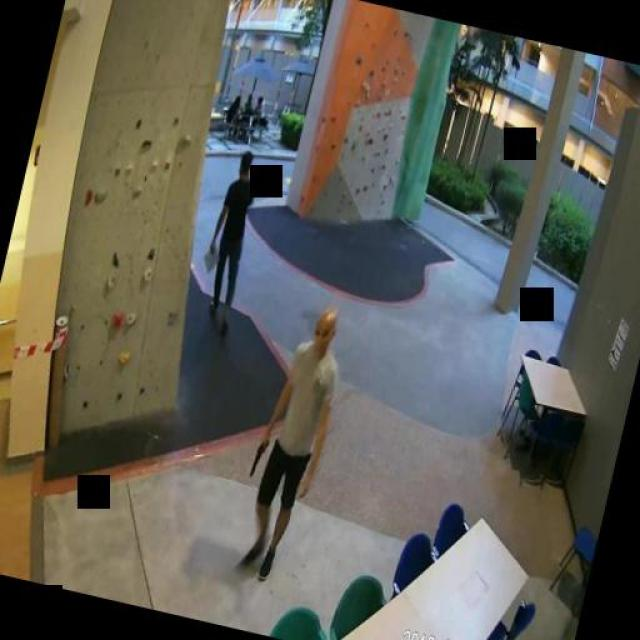gun: (248, 432, 268, 477)
